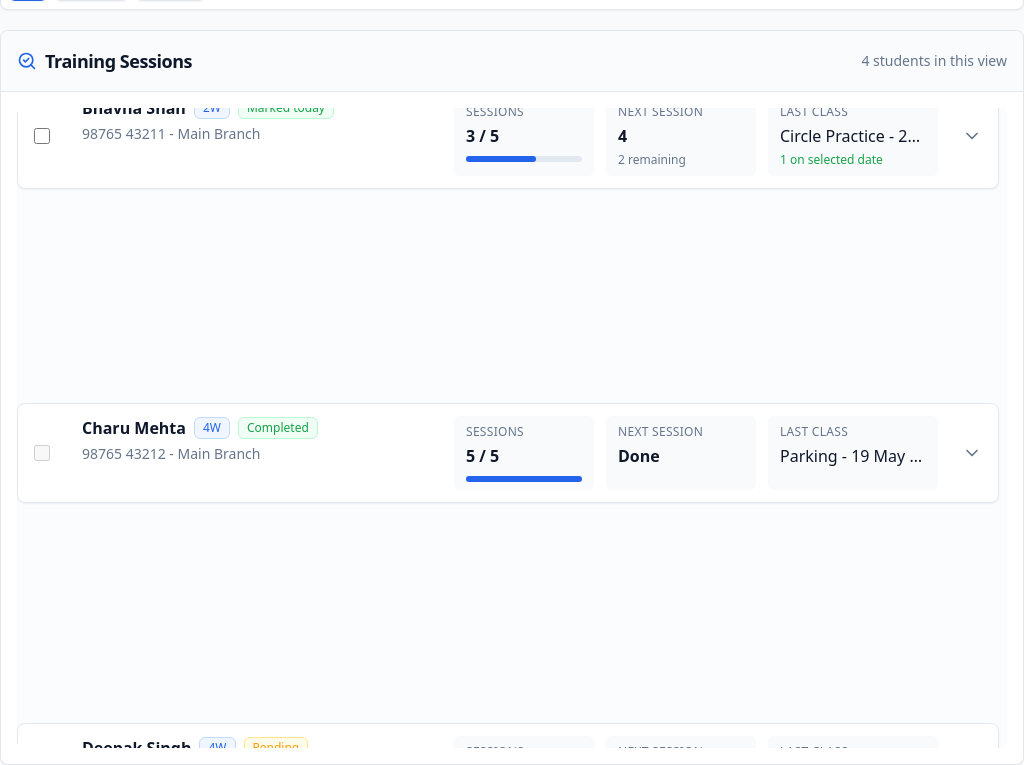
Test case: AttendancePage › disables selection and marking for completed rows
(page scrolled)
Click the text "Charu Mehta". click: click(134, 428)
box: top-left (82, 416), bottom-right (186, 440)
(page scrolled)
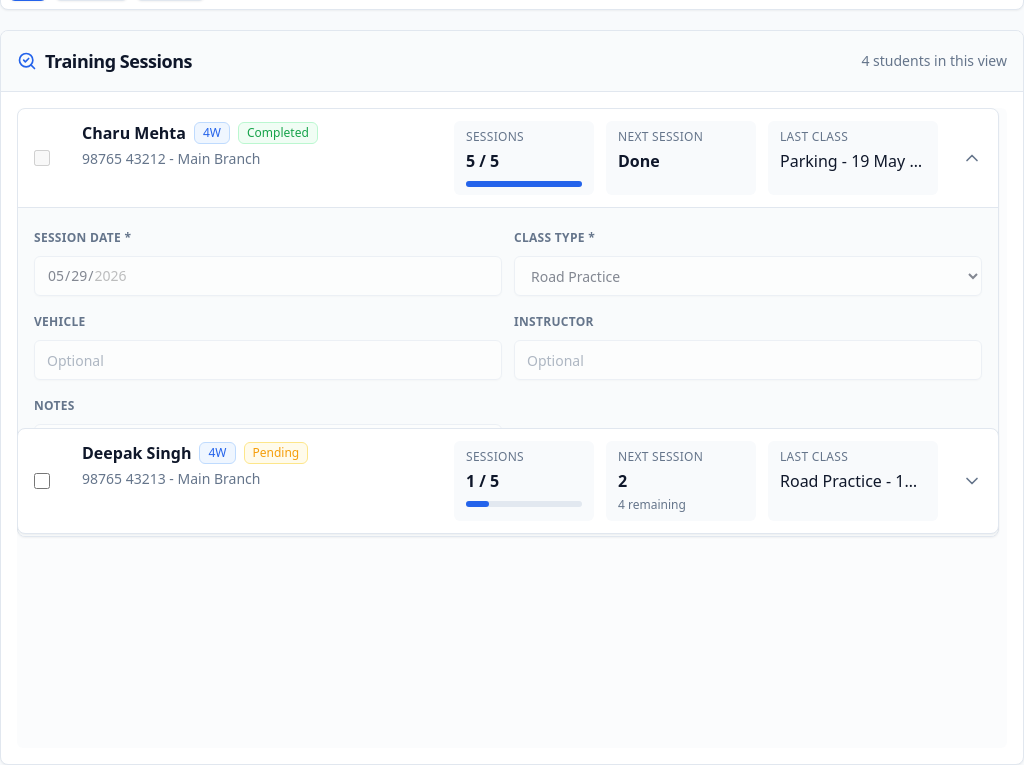
Expected: the checkbox named "Select Charu Mehta" is disabled, top-left (34, 150), bottom-right (50, 166)
Expected: the button "Completed" is disabled, top-left (34, 480), bottom-right (982, 520)
